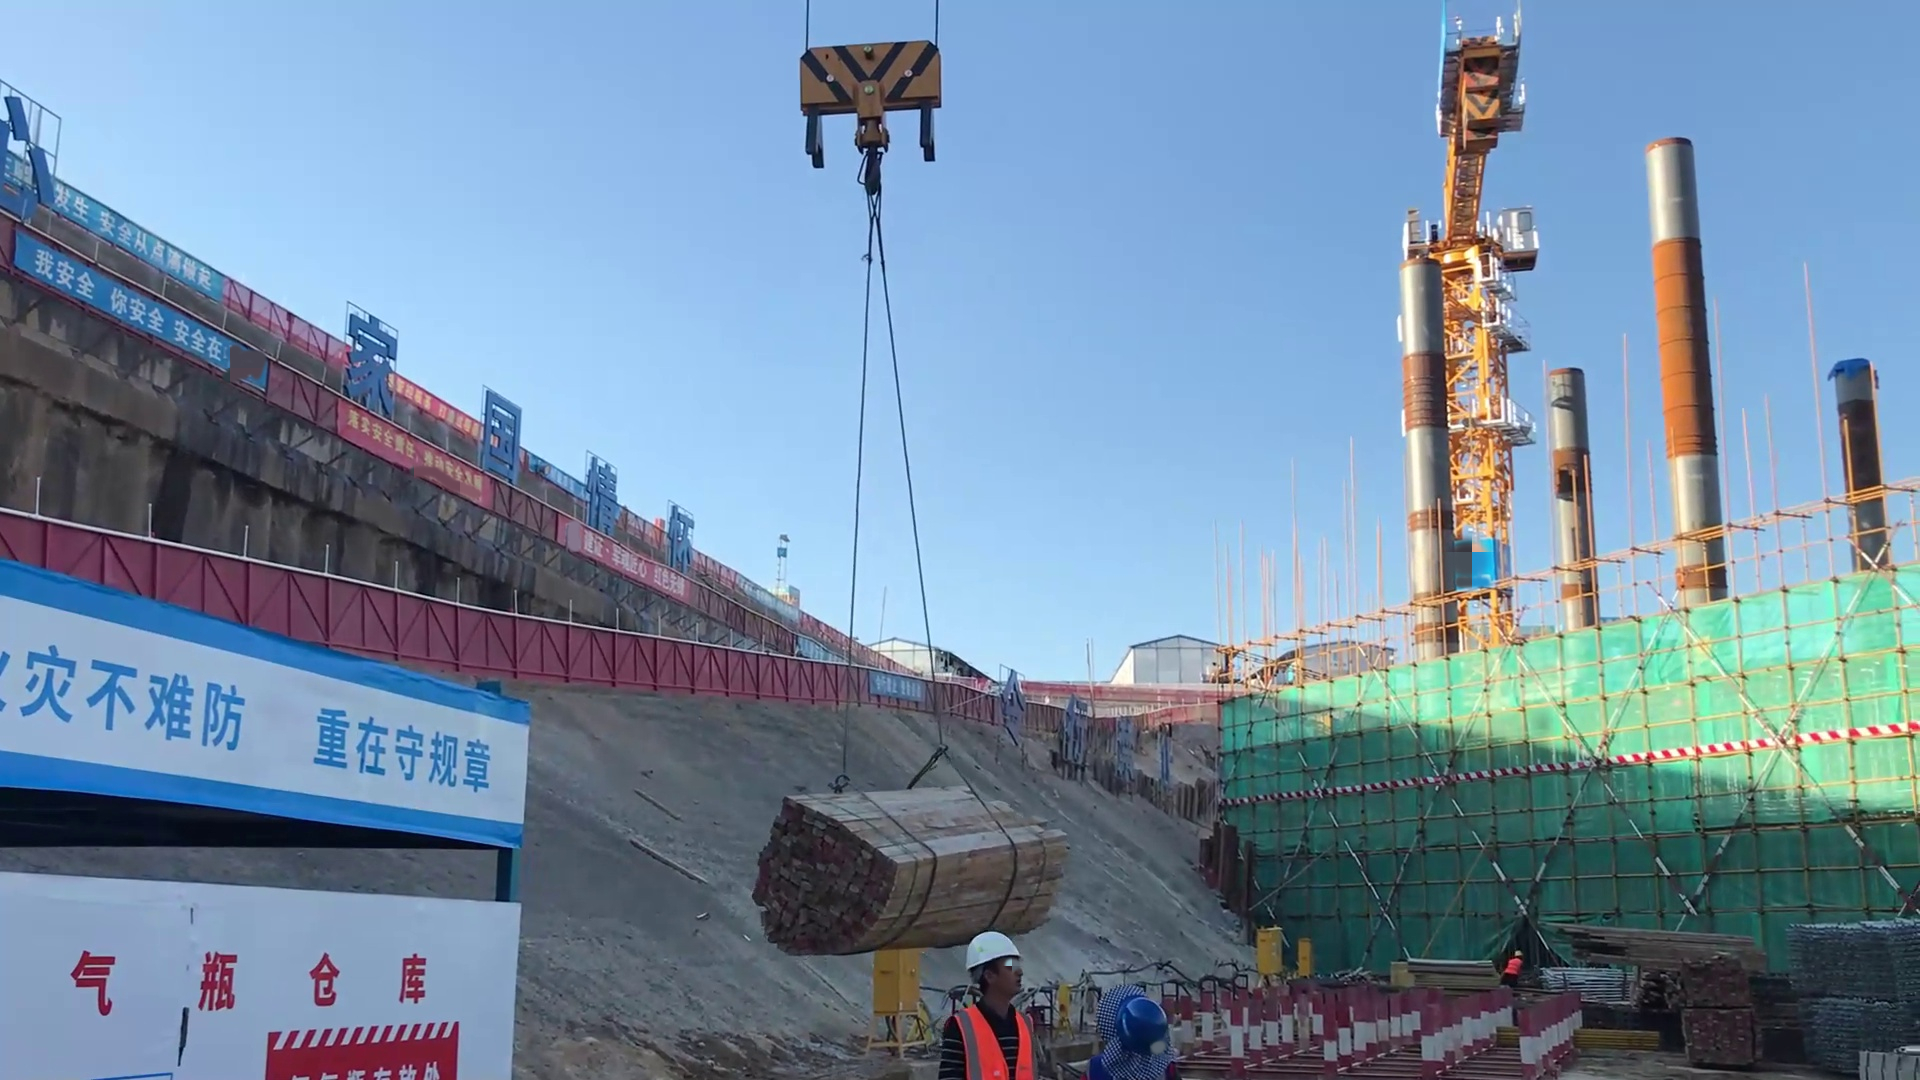ebox: (866, 931, 918, 1029), (1252, 920, 1282, 977), (1290, 935, 1312, 975)
fence: (254, 568, 519, 663), (526, 618, 784, 707), (785, 659, 874, 707)
helmet: (957, 929, 1035, 976), (1116, 1001, 1169, 1060)
hook: (791, 35, 941, 178)
person: (933, 923, 1060, 1080), (1093, 983, 1185, 1080), (1497, 941, 1529, 985)
scaffold: (1792, 890, 1912, 1049)
slogan: (1, 643, 491, 801), (15, 145, 229, 315), (7, 252, 223, 408), (315, 401, 483, 528)
vest: (949, 998, 1045, 1073)
wood: (749, 777, 1070, 958), (1555, 909, 1764, 1009)
